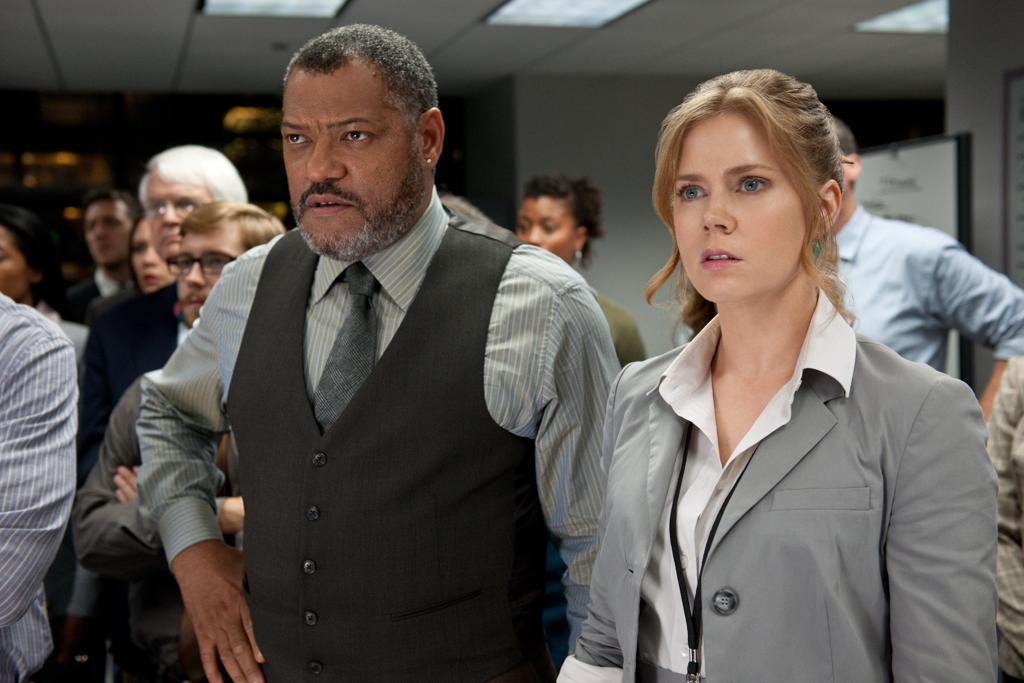face: (281, 70, 419, 261), (673, 120, 807, 303), (178, 233, 245, 332), (146, 173, 213, 258), (513, 200, 575, 273), (131, 220, 182, 294), (83, 203, 129, 264), (1, 230, 29, 298)
